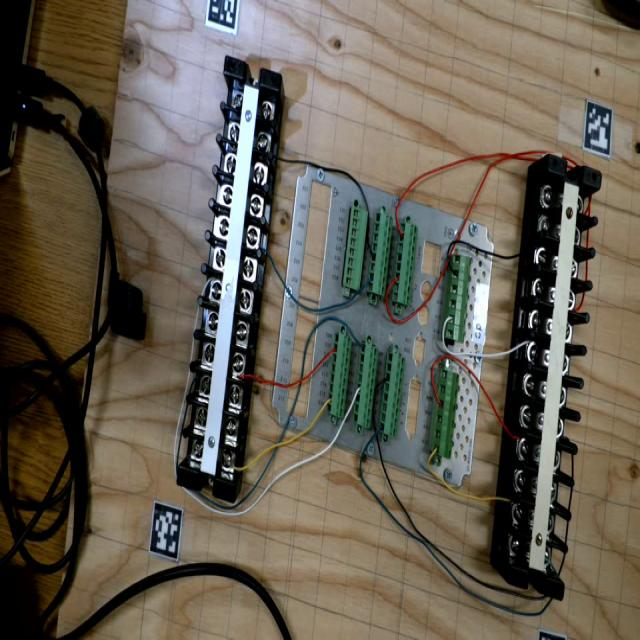Flathead_Block: (507, 155, 605, 601)
Phillips_Block: (176, 56, 284, 503)
Terminal_1: (431, 368, 460, 459), (444, 254, 472, 343)
Terminal_2: (378, 350, 406, 437), (366, 212, 394, 298), (352, 341, 379, 429), (326, 332, 353, 418), (392, 222, 418, 305)
